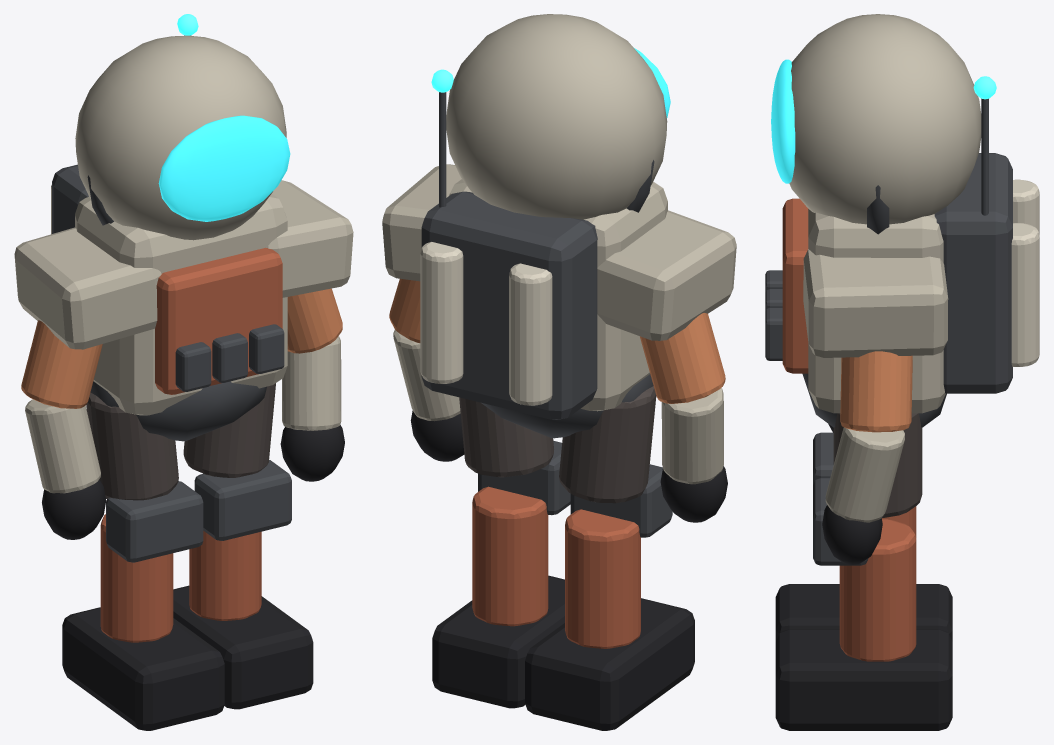
The model's file is ari-scout.glb.
The picture shows the model from 3 angles, left to right: view 1: azimuth 30°, elevation 25°; view 2: azimuth 150°, elevation 25°; view 3: azimuth 270°, elevation 25°; orthographic projection. The views are drawn at different scales.
Parts seen in each view (by area): view 1: ari-scout; view 2: ari-scout; view 3: ari-scout.
Part boxes in pixels (x1,y1,x2,y2): ari-scout: [14, 14, 353, 730]; ari-scout: [382, 14, 736, 730]; ari-scout: [765, 14, 1039, 730].
Bounding box in the file's own units: 1.62 × 3.16 × 1.18.
